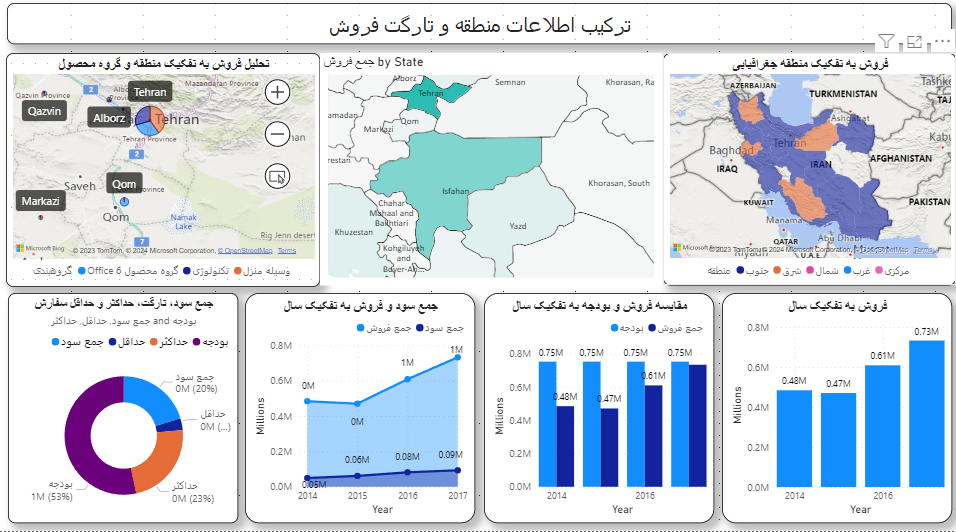

What the dashboard file says about the page in this screenshot:
{"tool":"powerbi","page":{"name":"Order_Dashboard_2","canvas":[1280,720],"ordinal":1},"visuals":[{"type":"textbox","box":[10.1,15.8,1260,54.7],"z":0},{"type":"map","title":"تحلیل فروش به تفکیک منطقه و گروه محصول","fields":{"Series":["Sheet1.گروهبندی"],"Category":["Sheet1.State"],"Size":["Sheet1.جمع فروش"]},"box":[9.7,82.1,418.8,311.7],"z":1000},{"type":"filledMap","title":"فروش به تفکیک منطقه جغرافیایی","fields":{"Category":["Sheet1.State"],"Series":["Sheet1.منطقه"]},"box":[884.9,82.1,391,310.3],"z":3000},{"type":"donutChart","title":"جمع سود، تارگت، حداکثر و حداقل سفارش","fields":{"Y":["Sheet1.جمع سود","Sheet1.حداقل","Sheet1.حداکثر","Sheet1.بودجه"]},"box":[11.5,403.2,306.7,306.7],"z":4000},{"type":"areaChart","title":"جمع سود و فروش به تفکیک سال","fields":{"Y":["Sheet1.جمع فروش","Sheet1.جمع سود"],"Category":["Sheet1.تاریخ ثبت سفارش.Variation.Date Hierarchy.Year"]},"box":[328.3,403.2,306.7,306.7],"z":5000},{"type":"clusteredColumnChart","title":"مقایسه فروش و بودجه به تفکیک سال","fields":{"Y":["Sheet1.Target","Sheet1.جمع فروش"],"Category":["Sheet1.تاریخ ثبت سفارش.Variation.Date Hierarchy.Year"]},"box":[646.6,403.2,306.7,306.7],"z":6000},{"type":"clusteredColumnChart","title":"فروش به تفکیک سال","fields":{"Y":["Sheet1.جمع فروش"],"Category":["Sheet1.تاریخ ثبت سفارش.Variation.Date Hierarchy.Year"]},"box":[963.4,403.2,306.7,306.7],"z":7000},{"type":"PBI_CV_815282F9_27F5_4950_9430_E910E0A8DB6A","fields":{"Category":["Sheet1.State"],"Y":["Sheet1.جمع فروش"]},"box":[428.5,82.1,456.3,310.3],"z":7001}]}

Visuals, with their boxes in screenshot pixels (x1, y1, x2, y2), scaled from the page's 1280x720 canvas onto the 956x532 screenshot:
textbox: rect(8, 12, 949, 52)
"تحلیل فروش به تفکیک منطقه و گروه محصول" map: rect(7, 61, 320, 291)
"فروش به تفکیک منطقه جغرافیایی" filledMap: rect(661, 61, 953, 290)
"جمع سود، تارگت، حداکثر و حداقل سفارش" donutChart: rect(9, 298, 238, 525)
"جمع سود و فروش به تفکیک سال" areaChart: rect(245, 298, 474, 525)
"مقایسه فروش و بودجه به تفکیک سال" clusteredColumnChart: rect(483, 298, 712, 525)
"فروش به تفکیک سال" clusteredColumnChart: rect(720, 298, 949, 525)
PBI_CV_815282F9_27F5_4950_9430_E910E0A8DB6A - Sheet1.State x Sheet1.جمع فروش: rect(320, 61, 661, 290)
